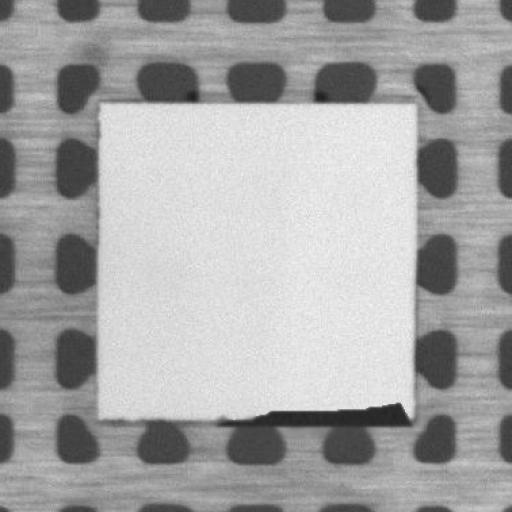DIE_BROKEN: (221, 393, 413, 427)
